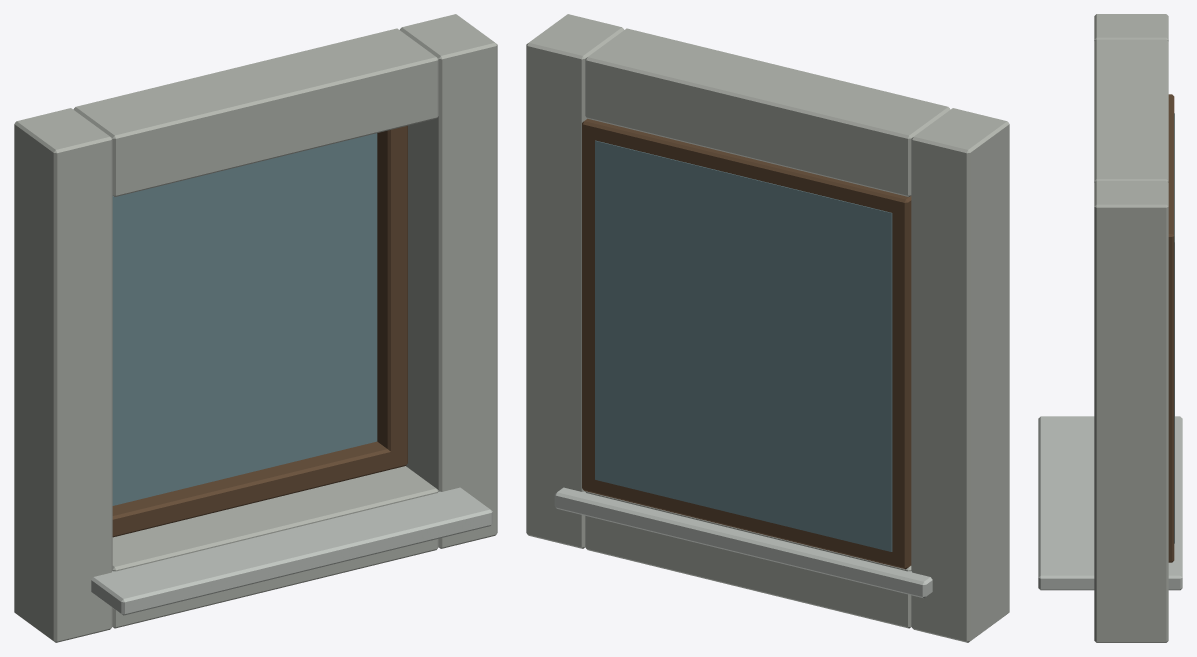
File: strahov-small-concrete-window.glb
3 views of the same model, side by side, from view 1: azimuth 30°, elevation 25°; view 2: azimuth 150°, elevation 25°; view 3: azimuth 270°, elevation 25° (orthographic). The views are drawn at different scales.
Visible parts, largest first — view 1: Glass, Side reveal, Side reveal.001, Head and base reveal.001, Projecting aluminum sill, Head and base reveal, Frame vertical.001, Frame horizontal; view 2: Glass, Side reveal, Head and base reveal.001, Side reveal.001, Head and base reveal, Projecting aluminum sill, Frame vertical, Frame horizontal.001, Frame vertical.001, Frame horizontal; view 3: Side reveal.001, Projecting aluminum sill, Head and base reveal.001, Frame vertical.001, Side reveal, Frame horizontal.001, Glass.
Boxes of the visible parts, x1,y1,x2,y2 form: Glass: (112, 133, 377, 505); Side reveal: (14, 108, 112, 642); Side reveal.001: (400, 14, 497, 548); Head and base reveal.001: (73, 28, 438, 196); Projecting aluminum sill: (91, 487, 492, 615); Head and base reveal: (112, 466, 438, 628); Frame vertical.001: (377, 125, 407, 467); Frame horizontal: (112, 441, 407, 537); Glass: (595, 140, 892, 551); Side reveal: (911, 108, 1009, 642); Head and base reveal.001: (585, 28, 950, 196); Side reveal.001: (526, 14, 623, 548); Head and base reveal: (585, 491, 911, 628); Projecting aluminum sill: (554, 487, 932, 598); Frame vertical: (888, 197, 911, 566); Frame horizontal.001: (582, 118, 911, 219); Frame vertical.001: (582, 123, 599, 494); Frame horizontal: (582, 472, 911, 569); Side reveal.001: (1094, 181, 1168, 642); Projecting aluminum sill: (1038, 416, 1182, 590); Head and base reveal.001: (1094, 39, 1168, 182); Frame vertical.001: (1168, 237, 1174, 561); Side reveal: (1094, 14, 1168, 41); Frame horizontal.001: (1168, 94, 1174, 251); Glass: (1174, 113, 1174, 543).
Bounding box in the file's own units: 0.98 × 1.04 × 0.31.
